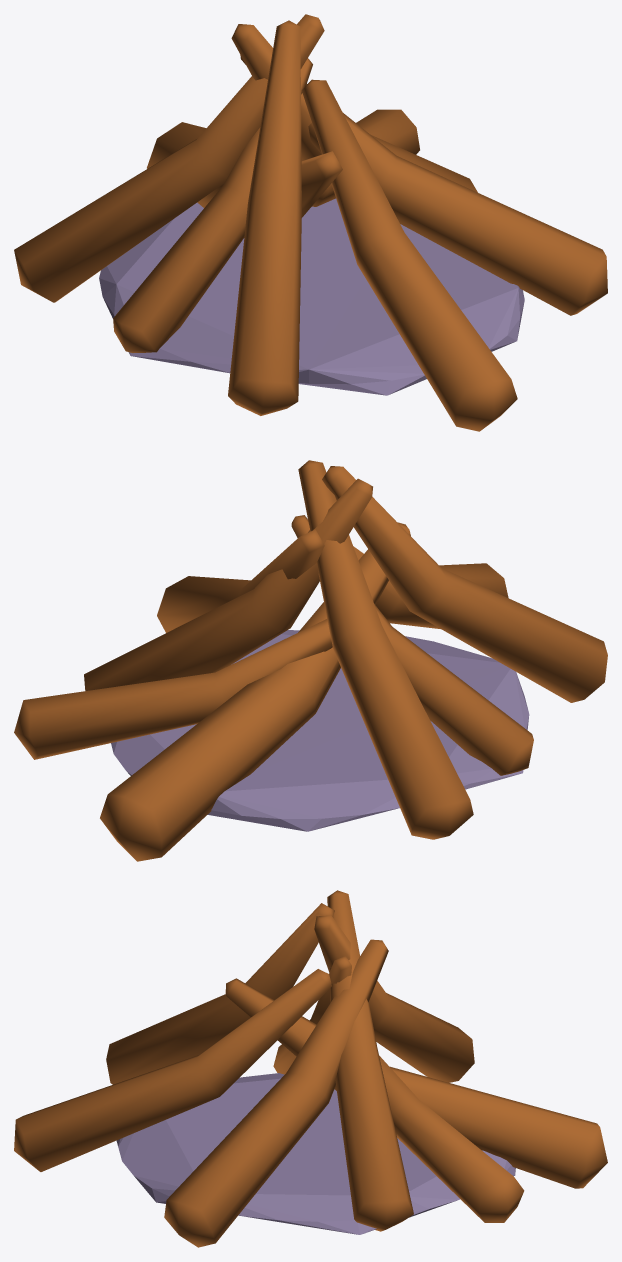
The model's file is fire1.fbx.
3 renders of one model, top to bottom at view 1: azimuth 30°, elevation 25°; view 2: azimuth 150°, elevation 25°; view 3: azimuth 270°, elevation 25°, orthographic. The views are drawn at different scales.
Visible parts, largest first — view 1: Circle; view 2: Circle; view 3: Circle.
Boxes of the visible parts, x1,y1,x2,y2 form: Circle: (14,14,607,431); Circle: (14,460,607,861); Circle: (14,890,607,1247).
Size of the model in its own units: 380 by 247 by 508.
